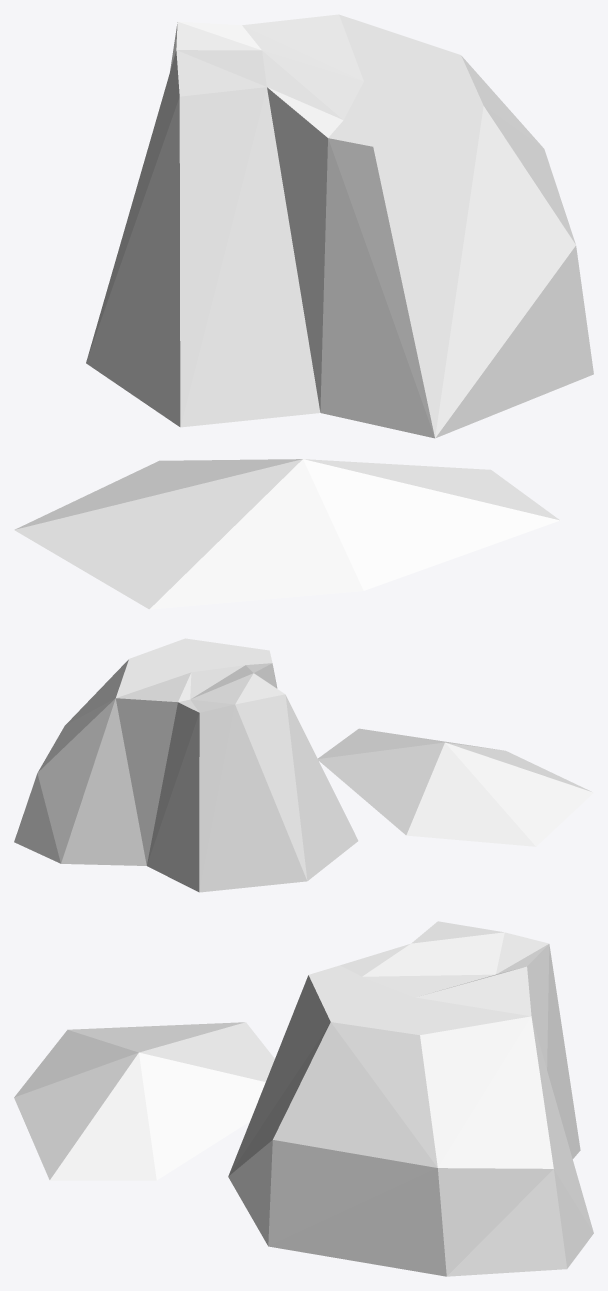
The picture shows the model from 3 angles, top to bottom: view 1: azimuth 30°, elevation 25°; view 2: azimuth 150°, elevation 25°; view 3: azimuth 270°, elevation 25°; orthographic projection. The views are drawn at different scales.
Bounding box in the file's own units: 135 × 53 × 130.
1 material, 1 textured.
